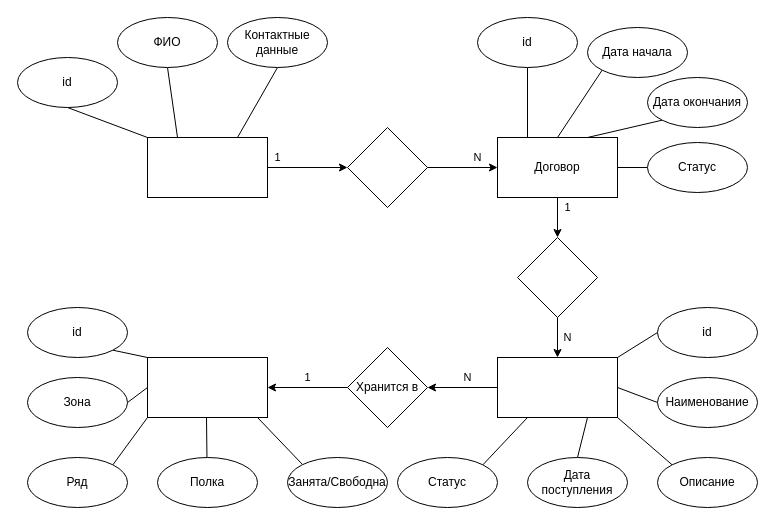
The diagram is 775 pixels wide and 526 high, and some of its shapes have lost their labels. The centre of each missing label's shape, as x and y in pixels:
Включает: (557,277)
Заключает: (387,167)
Клиент: (207,167)
Товар: (557,387)
Ячейка хранения: (207,387)
